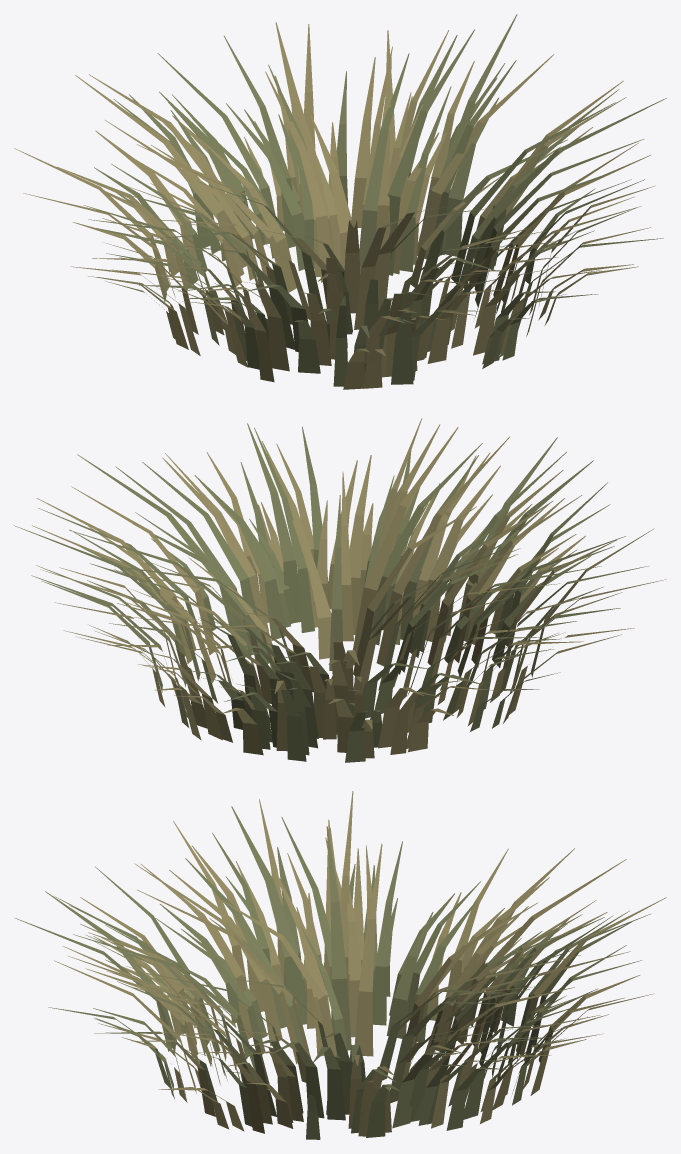
Rendered from alpine_tussock_v1.glb.
3 views of the same model, one above another, from view 1: azimuth 30°, elevation 25°; view 2: azimuth 150°, elevation 25°; view 3: azimuth 270°, elevation 25° (orthographic). The views are drawn at different scales.
Visible parts, largest first — view 1: alpine_tussock_v1; view 2: alpine_tussock_v1; view 3: alpine_tussock_v1.
Boxes of the visible parts, x1,y1,x2,y2 form: alpine_tussock_v1: (14, 14, 666, 389); alpine_tussock_v1: (14, 418, 666, 762); alpine_tussock_v1: (14, 791, 666, 1139).
Bounding box in the file's own units: 0.8031 × 0.2427 × 0.8136.
